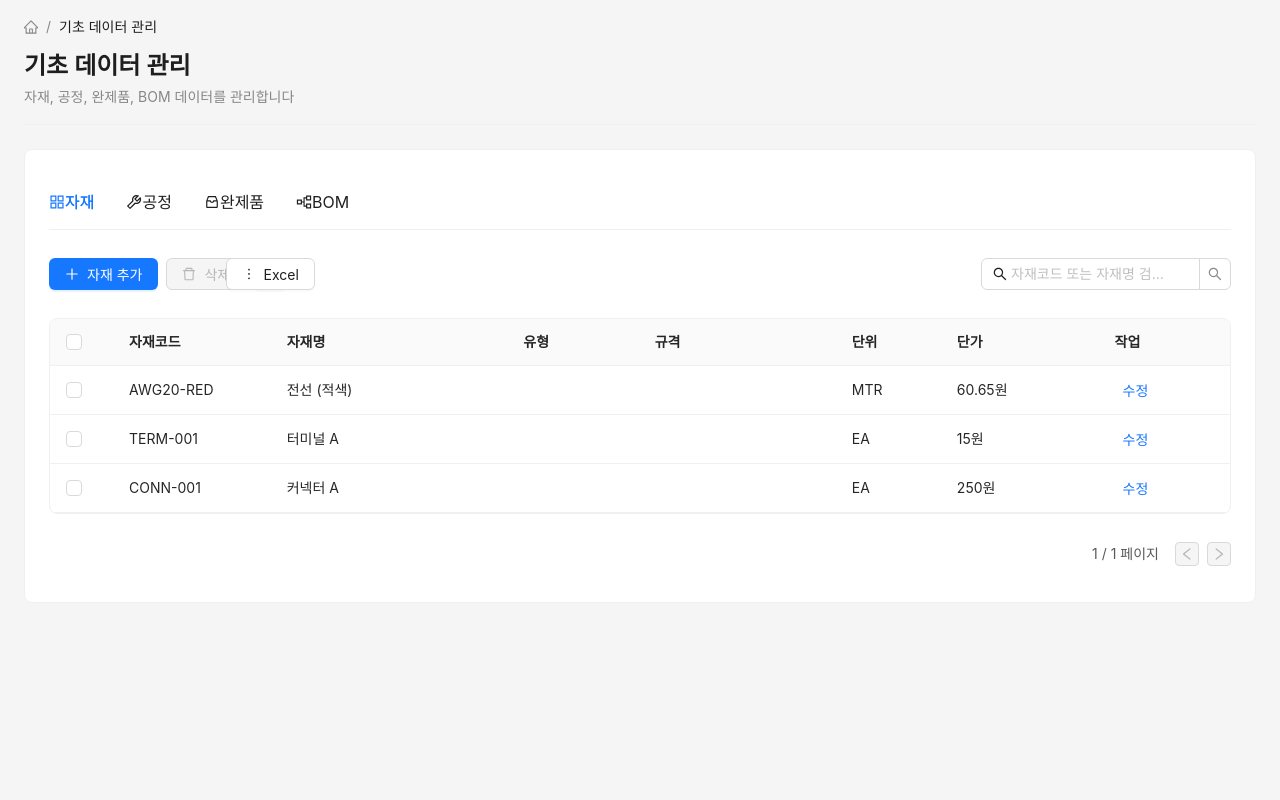
Test: MasterDataPage › CRUD Operations › should enable delete button when rows are selected
The image size is (1280, 800).
Step 1. Click the checkbox next to "AWG20-RED" → (74, 390), box [66, 379, 82, 401]
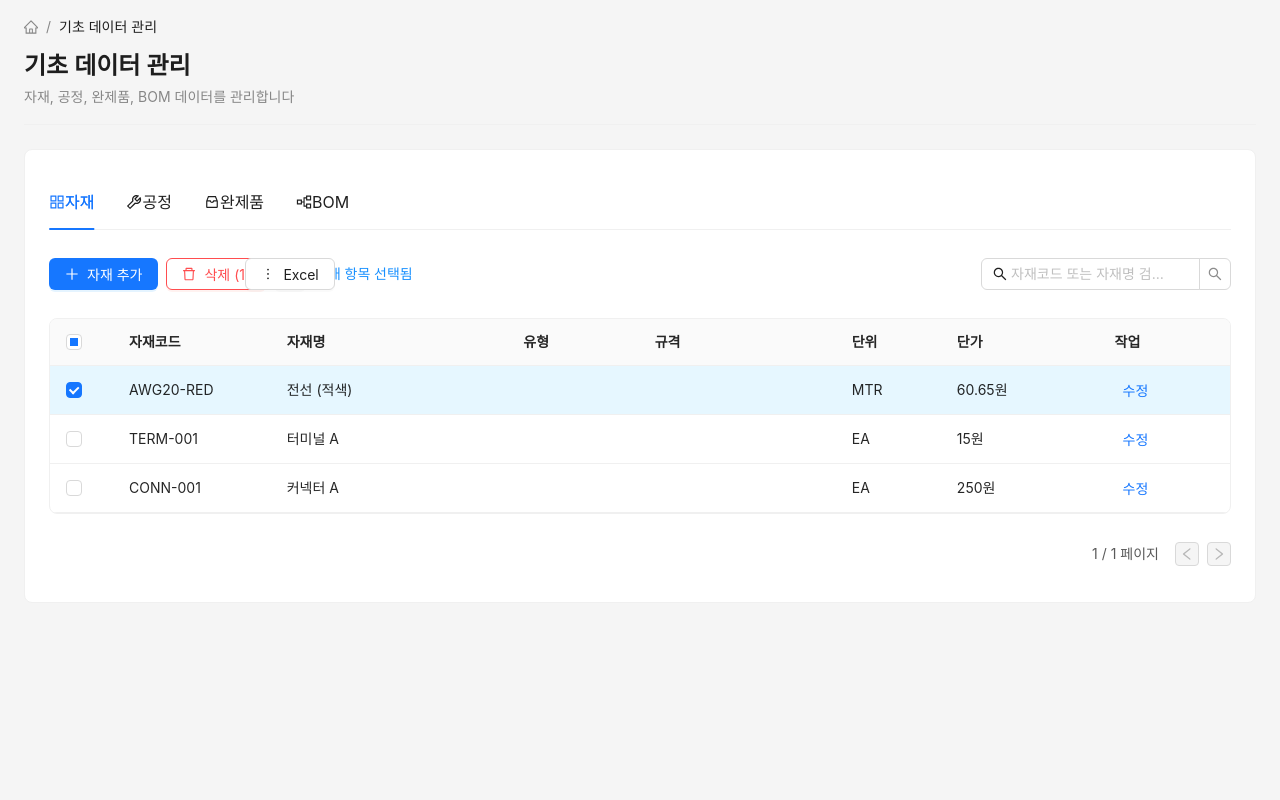
Result: the button "삭제 (1)" is enabled at [166, 258, 266, 290]
